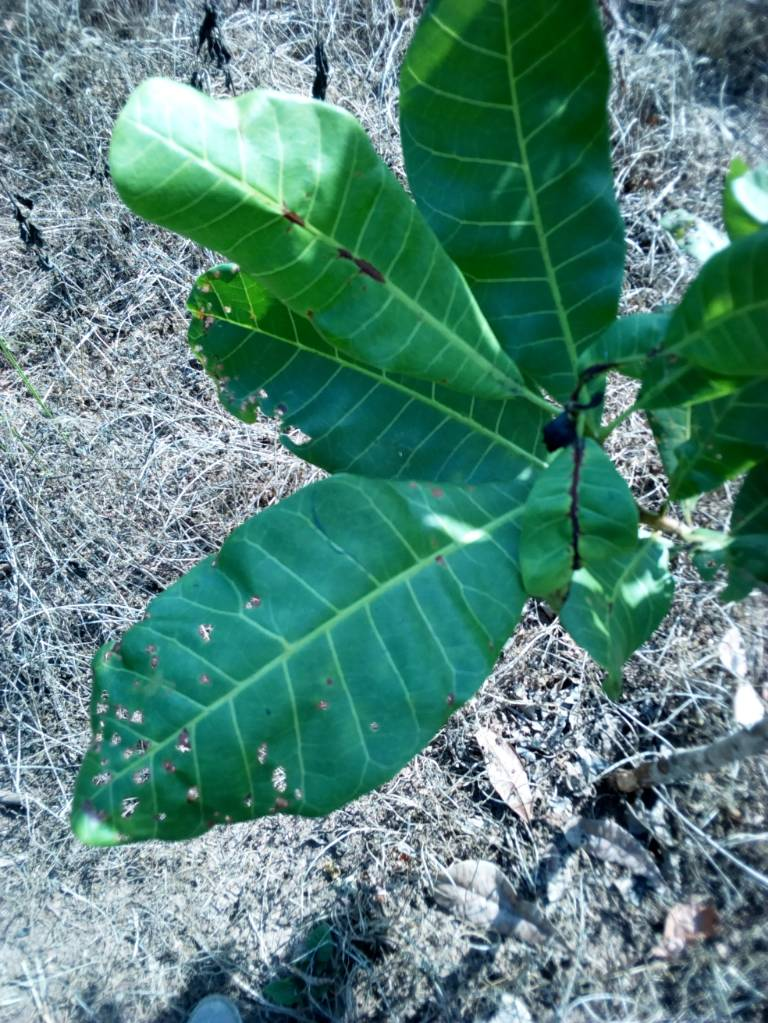Dessèchement des bourgeons: (535, 363, 611, 475)
